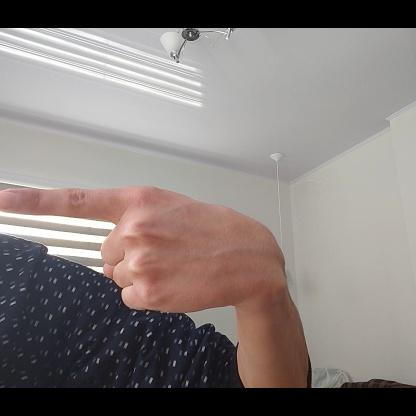G: (0, 184, 283, 311)
